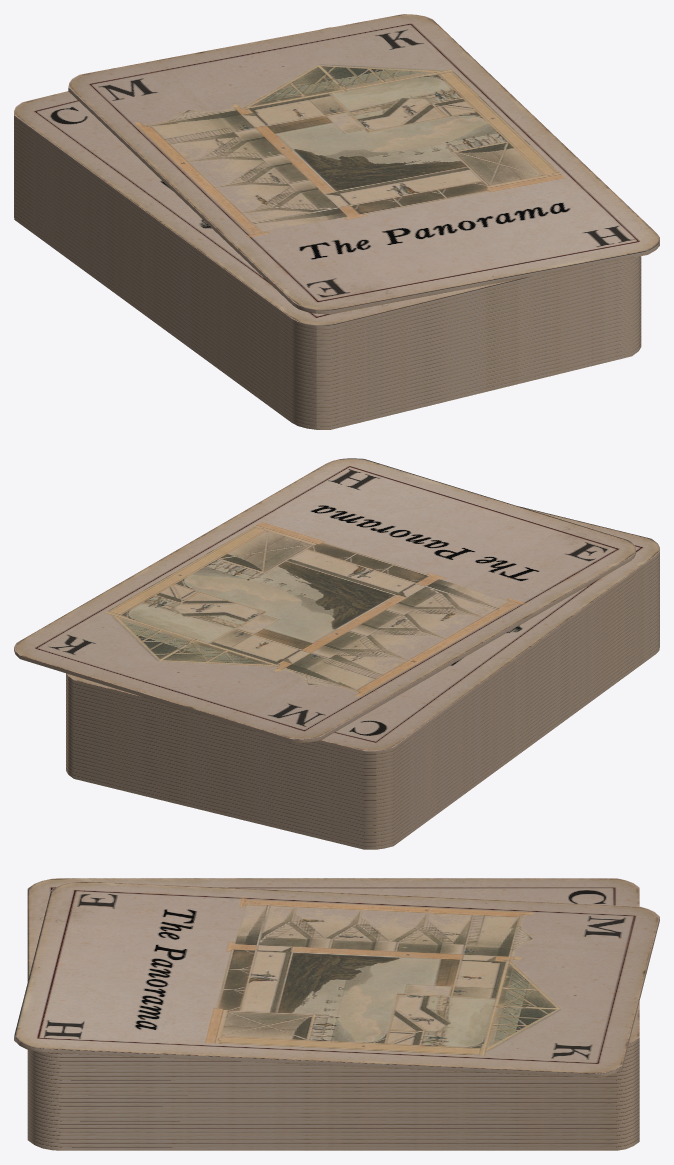
Rendered from library.fbx.
3 renders of one model, top to bottom at view 1: azimuth 30°, elevation 25°; view 2: azimuth 150°, elevation 25°; view 3: azimuth 270°, elevation 25°, orthographic. The views are drawn at different scales.
Visible parts, largest first — view 1: Ace_Of_Spades.005; view 2: Ace_Of_Spades.005; view 3: Ace_Of_Spades.005.
Part boxes in pixels (bbox=[...]): Ace_Of_Spades.005: bbox=[14, 14, 659, 429]; Ace_Of_Spades.005: bbox=[14, 458, 659, 849]; Ace_Of_Spades.005: bbox=[14, 878, 659, 1150].
Bounding box in the file's own units: 694 × 175 × 950.
